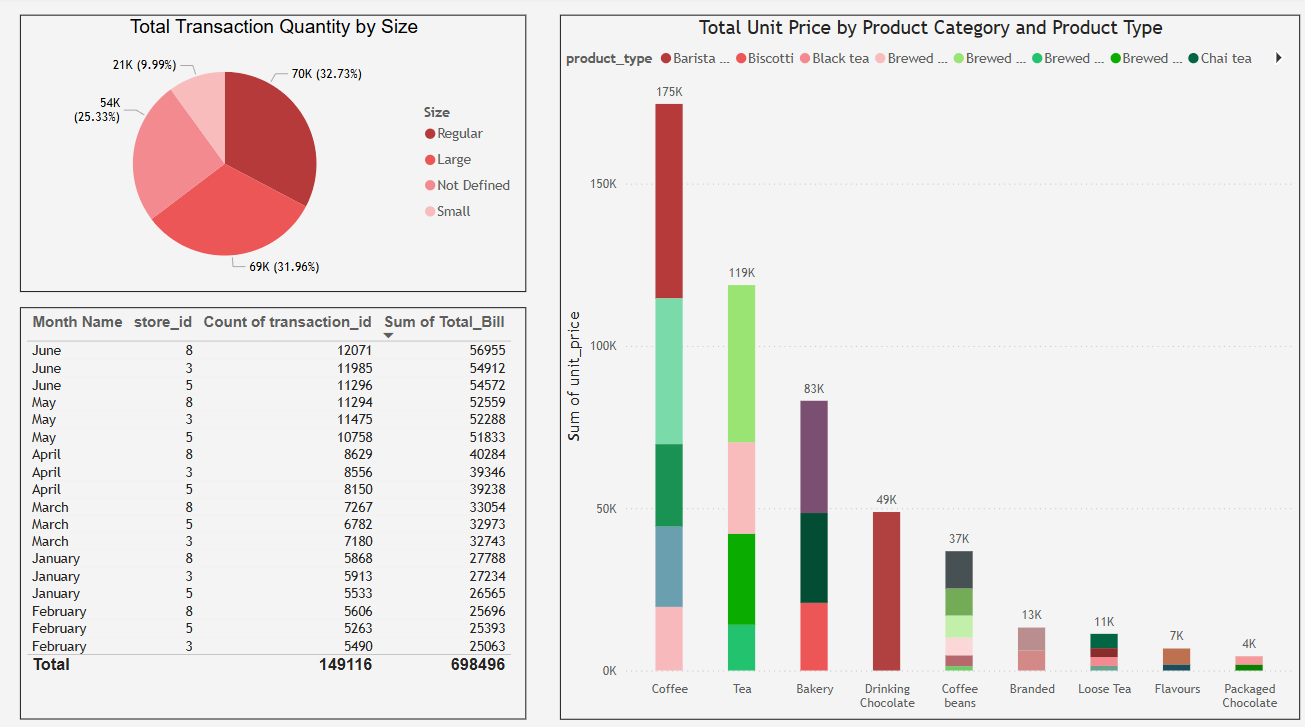

What the dashboard file says about the page in this screenshot:
{"tool":"powerbi","page":{"name":"Page 2","canvas":[1280,720],"ordinal":1},"visuals":[{"type":"pieChart","title":"Total Transaction Quantity by Size","fields":{"Category":["Coffee Sales Data.Size"],"Y":["Sum(Coffee Sales Data.transaction_qty)"]},"box":[19.6,18.3,495.2,271.5],"z":0},{"type":"ribbonChart","title":"Total Unit Price by Product Category and Product Type","fields":{"Category":["Coffee Sales Data.product_category"],"Y":["Sum(Coffee Sales Data.unit_price)"],"Series":["Coffee Sales Data.product_type"]},"box":[547.8,18.3,723.9,689.7],"z":1},{"type":"tableEx","fields":{"Values":["Coffee Sales Data.Month Name","Coffee Sales Data.store_id","CountNonNull(Coffee Sales Data.transaction_id)","Sum(Coffee Sales Data.Total_Bill)"]},"box":[19.6,304.5,495.2,403.5],"z":2}]}

Visuals, with their boxes in screenshot pixels (x1, y1, x2, y2), scaled from the page's 1280x720 canvas onto the 1305x727 screenshot:
"Total Transaction Quantity by Size" pieChart: x1=20 y1=18 x2=525 y2=293
"Total Unit Price by Product Category and Product Type" ribbonChart: x1=558 y1=18 x2=1297 y2=715
tableEx - Coffee Sales Data.Month Name x Coffee Sales Data.store_id: x1=20 y1=307 x2=525 y2=715
